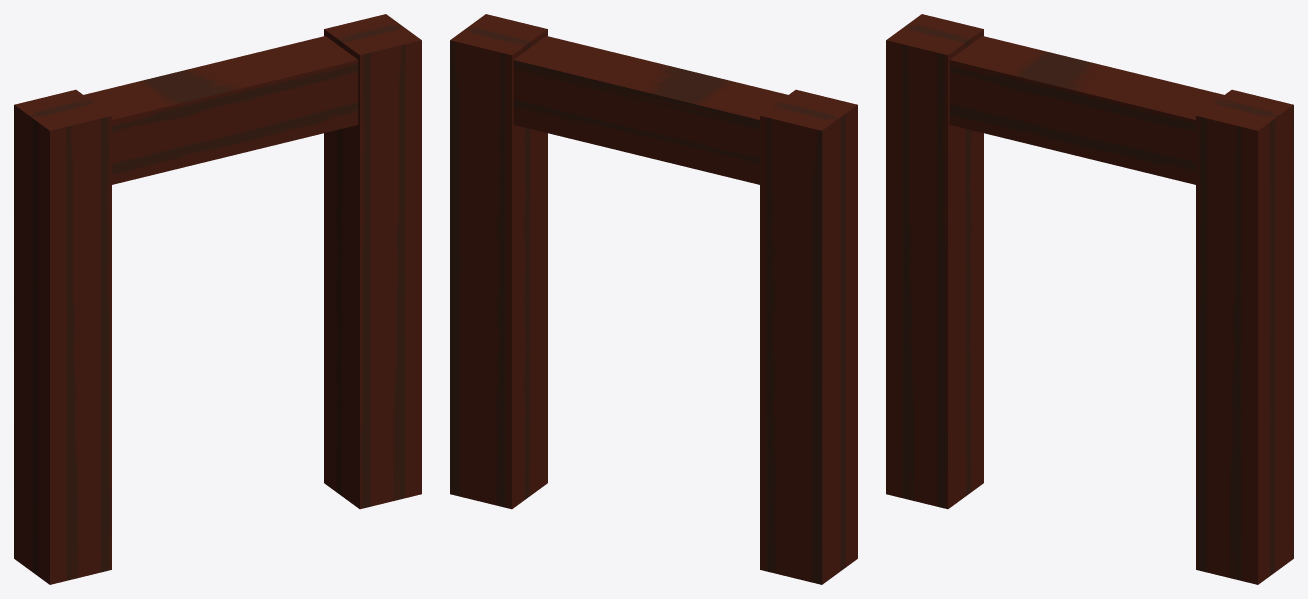
File: Gate.fbx
The picture shows the model from 3 angles, left to right: view 1: azimuth 30°, elevation 25°; view 2: azimuth 150°, elevation 25°; view 3: azimuth 330°, elevation 25°; orthographic projection.
Visible parts, largest first — view 1: Cube.030, Cube.029; view 2: Cube.030, Cube.029; view 3: Cube.030, Cube.029.
Part boxes in pixels (x1=…): Cube.030: x1=14, y1=14, x2=421, y2=584; Cube.029: x1=84, y1=36, x2=358, y2=184; Cube.030: x1=450, y1=14, x2=857, y2=584; Cube.029: x1=513, y1=36, x2=787, y2=184; Cube.030: x1=886, y1=14, x2=1293, y2=584; Cube.029: x1=949, y1=36, x2=1223, y2=184.
Size of the model in its own units: 6 by 7 by 1.
